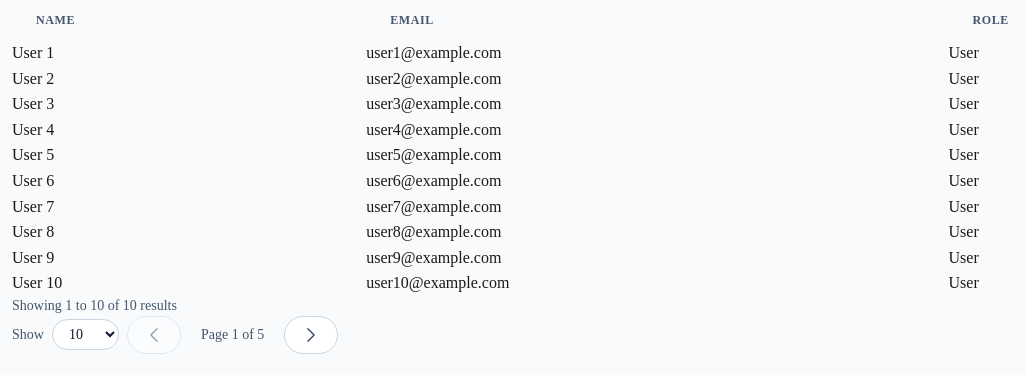
Test: DataTable › Pagination › navigates between pages
expect the text "User 1" is shown: met, box [12, 40, 366, 66]
expect the text "User 11" is not shown: met
Note: Go to next page
Click the button named "next page": (311, 335) [284, 316, 338, 354]
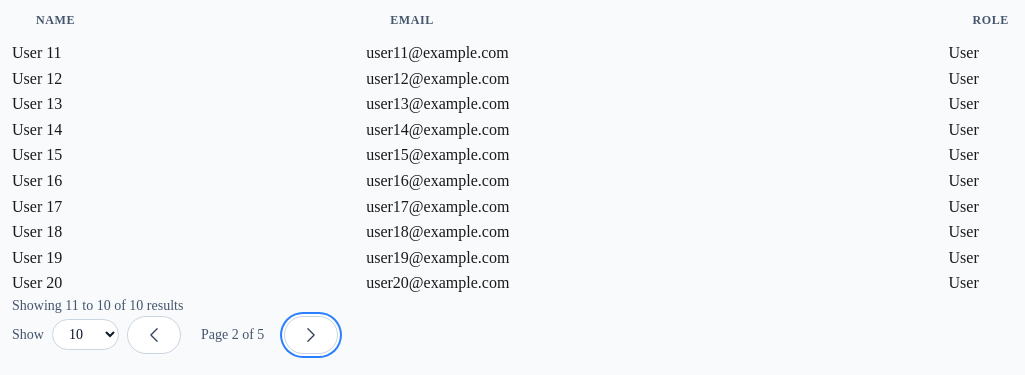
expect the text "User 11" is shown: met, box [12, 40, 366, 66]
